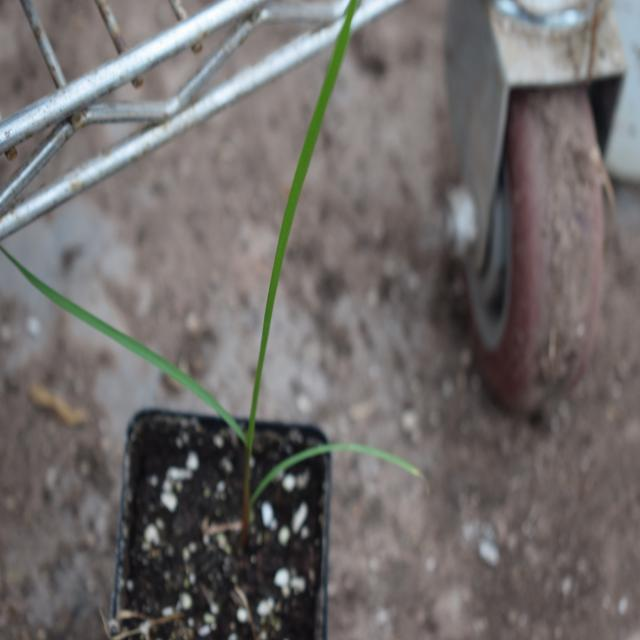green_foxtail: (29, 120, 403, 536)
